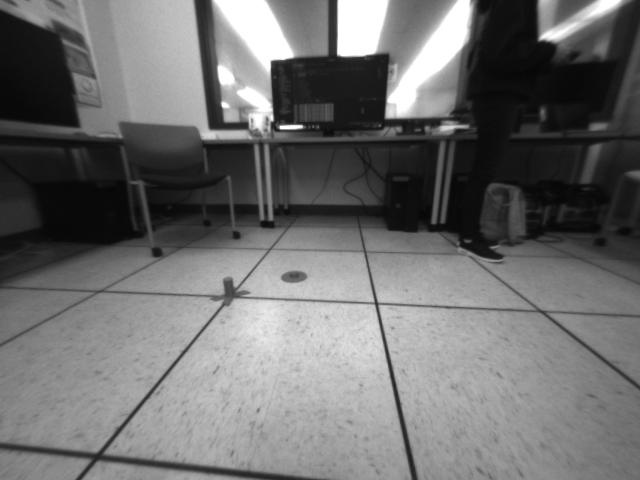X: (208, 275, 251, 307)
